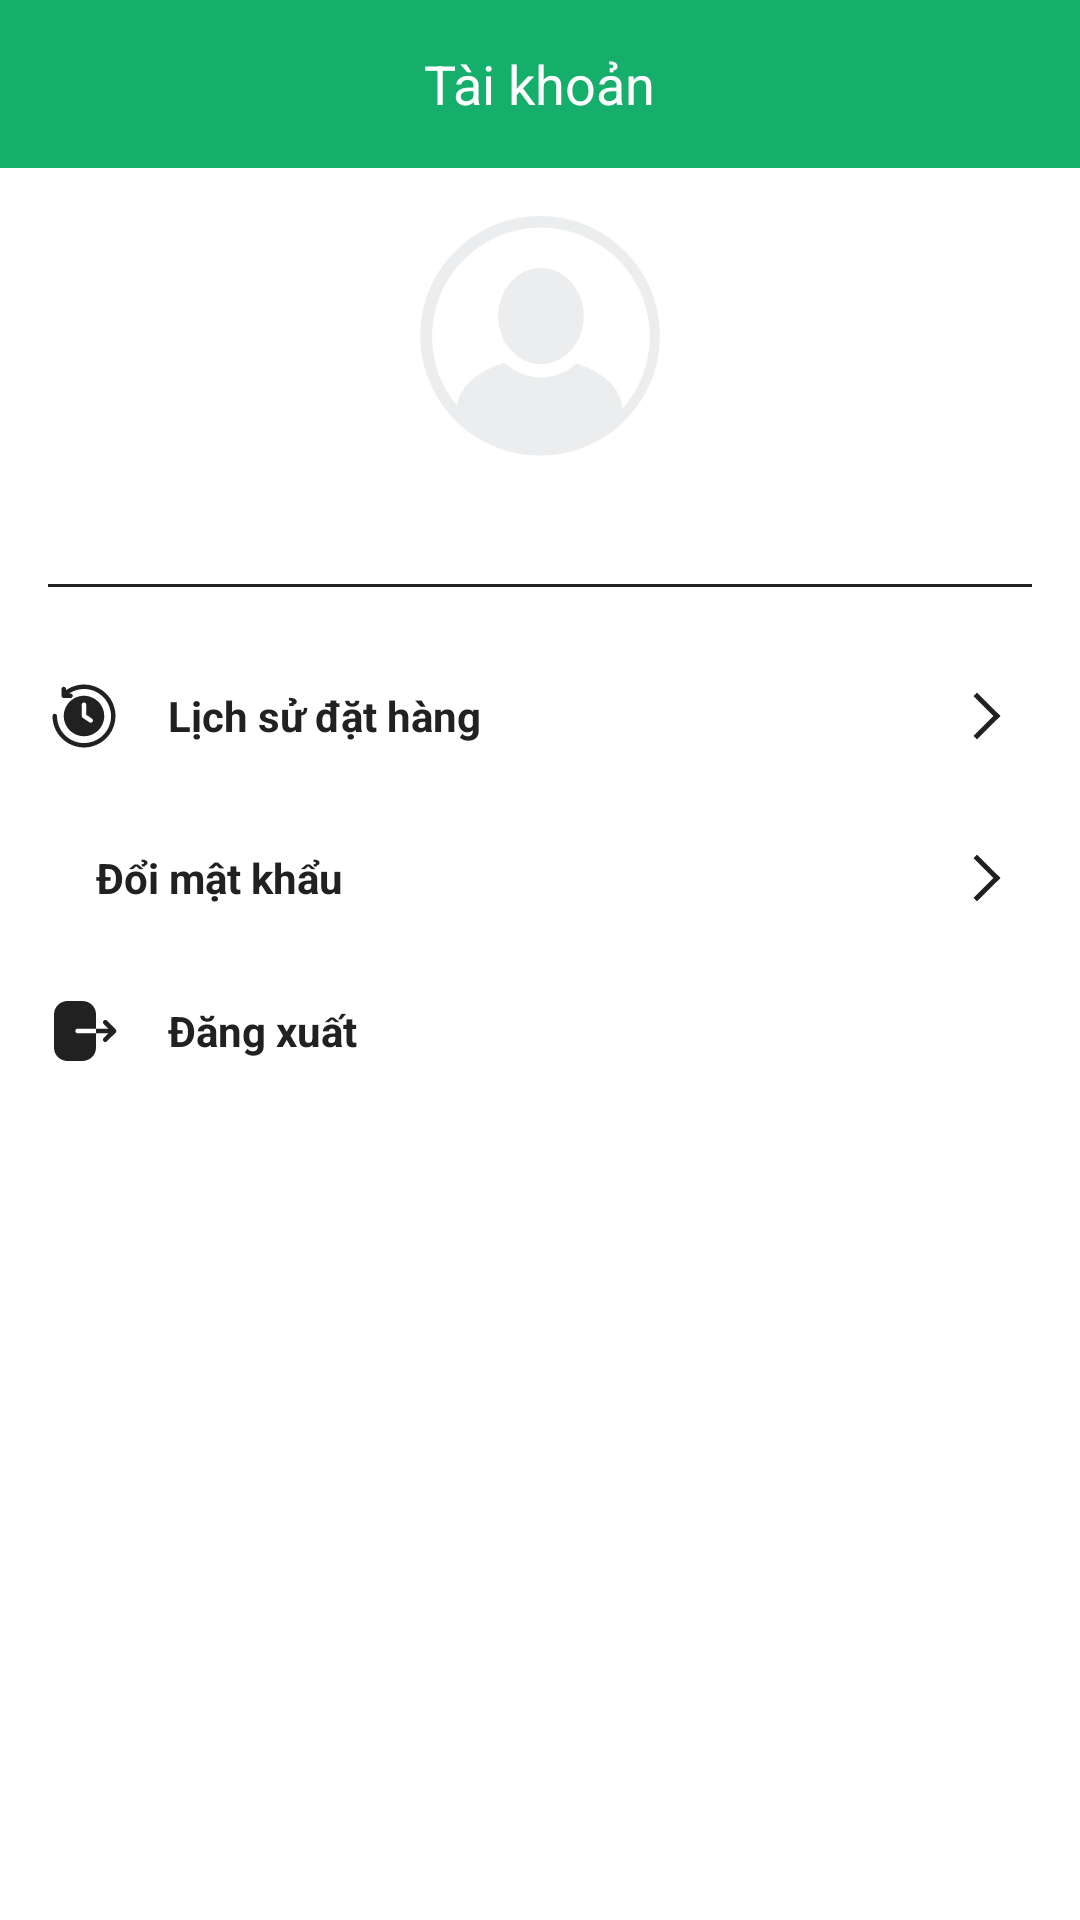

Icon bounding boxes for this 1080*1920 phone screenshot, format (left=x1, top=y1, right=x2, bottom=y2):
arrow right: (left=973, top=693, right=1001, bottom=739), (left=973, top=855, right=1001, bottom=901)
order history: (left=52, top=684, right=116, bottom=748)
sign out: (left=54, top=1001, right=117, bottom=1061)
